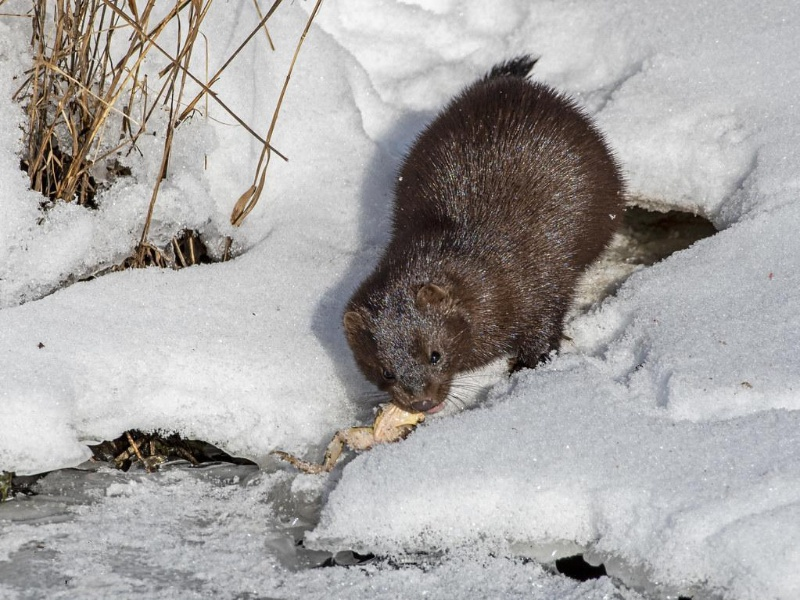minkish: (340, 50, 626, 422)
